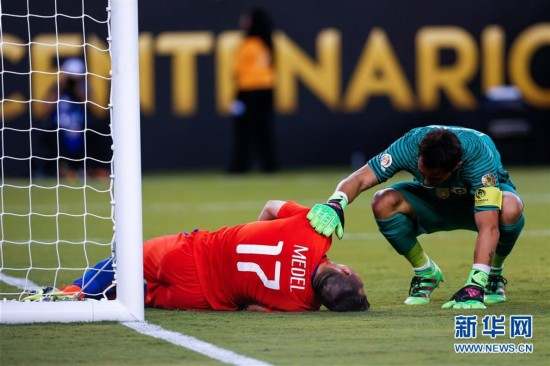fall: (0, 3, 125, 170)
